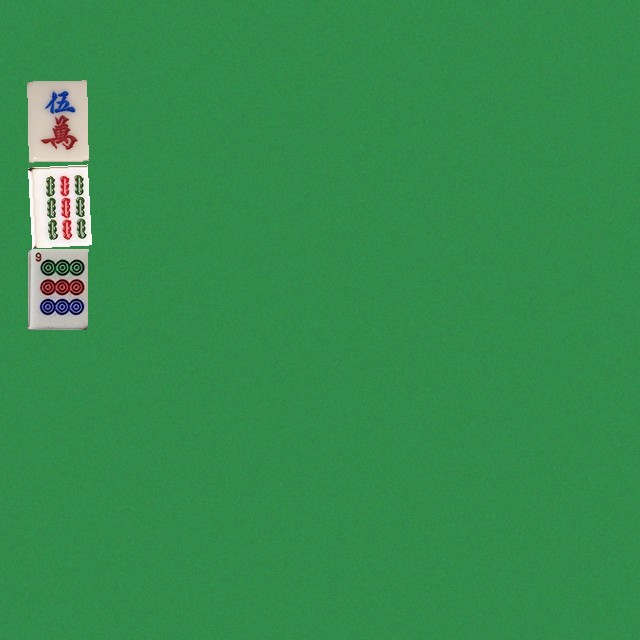tile: (27, 80, 87, 161), (27, 164, 87, 245), (27, 248, 87, 329)
